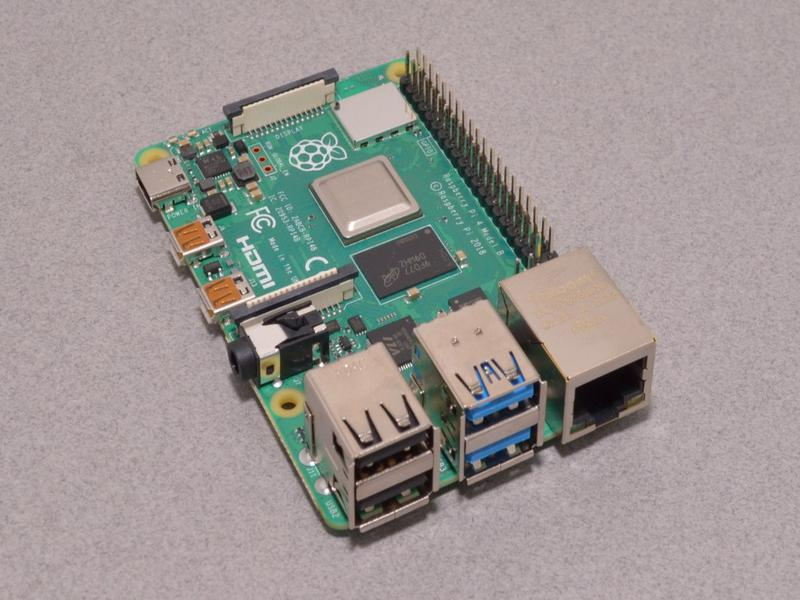Raspberry Pi: (133, 45, 659, 548)
